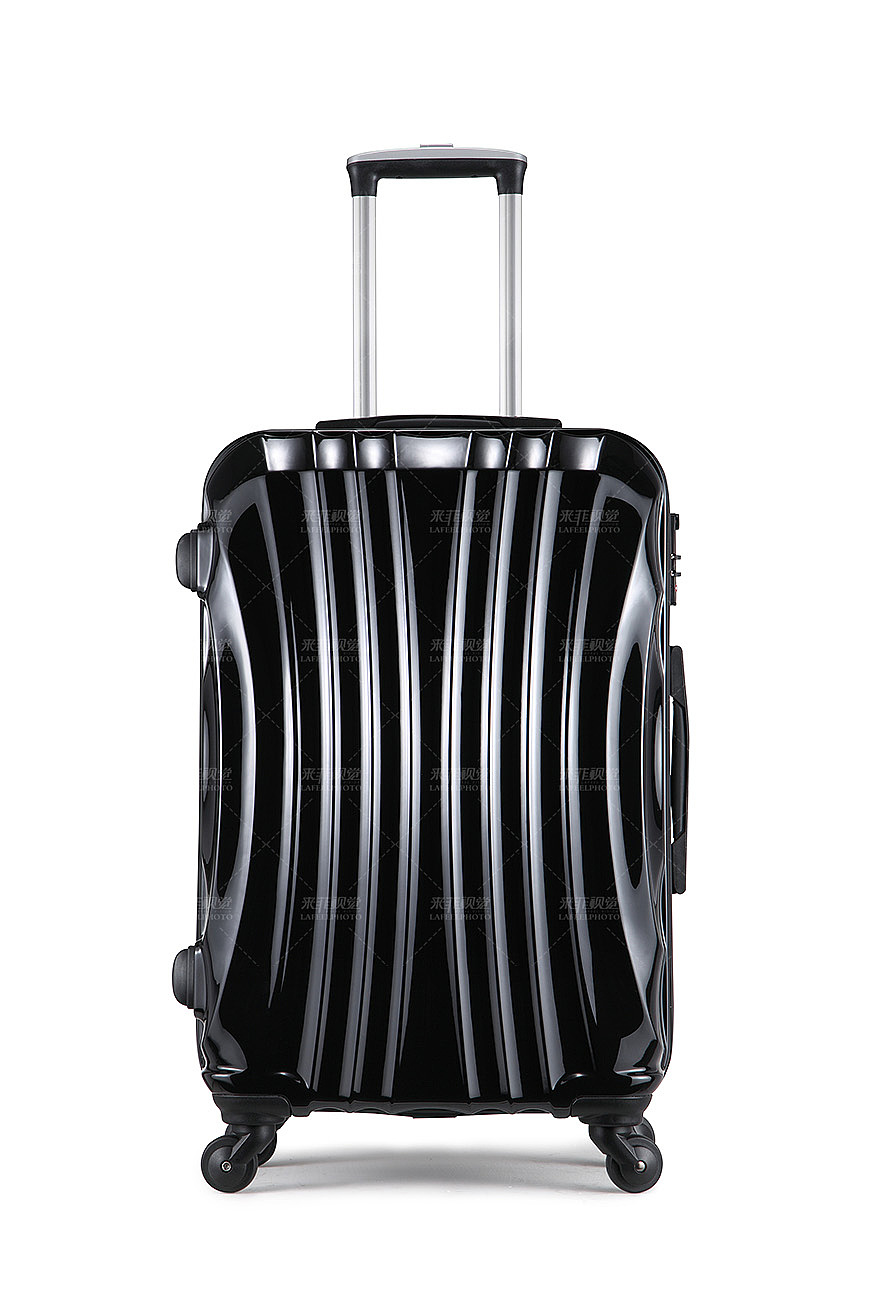box: (199, 428, 676, 1112)
handle: (667, 643, 690, 896), (312, 413, 562, 433)
wheel: (199, 1133, 257, 1193), (604, 1135, 664, 1193)
